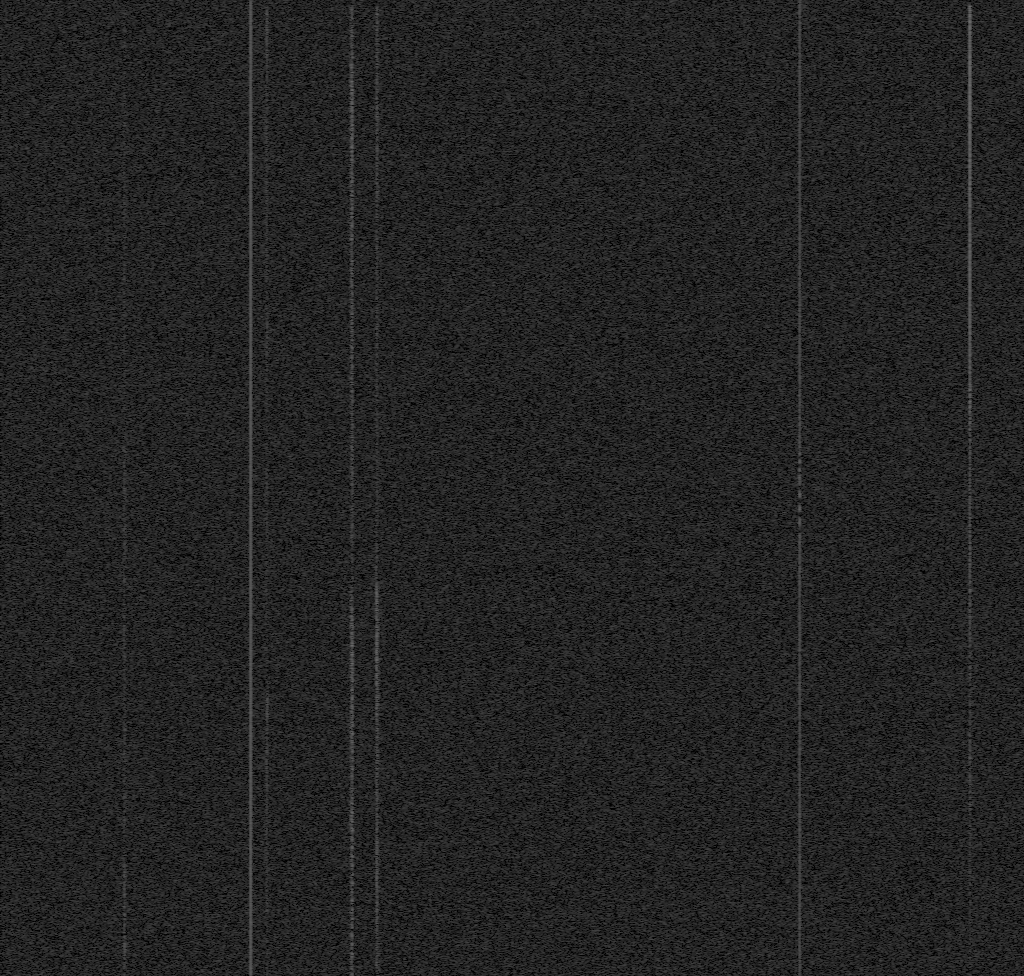wv_am: (794, 0, 806, 466), (797, 500, 802, 976), (797, 467, 802, 499)
wv_cw: (241, 0, 260, 976)
wv_lsb: (348, 4, 355, 976), (263, 5, 270, 264), (263, 647, 270, 869), (263, 276, 270, 367), (264, 464, 269, 557), (264, 558, 269, 646), (264, 870, 269, 918), (264, 368, 269, 406), (264, 940, 269, 976), (264, 418, 269, 434), (264, 919, 269, 934), (264, 442, 269, 456), (263, 265, 269, 275), (264, 457, 269, 463), (264, 407, 269, 412), (265, 435, 269, 441), (264, 935, 269, 939), (264, 413, 269, 417)
wv_usb: (967, 2, 974, 888), (122, 13, 128, 622), (374, 515, 381, 976), (374, 6, 381, 421), (122, 765, 128, 976), (122, 623, 128, 748), (374, 422, 380, 514), (968, 889, 972, 942), (968, 943, 972, 976), (122, 749, 128, 764), (122, 6, 128, 12)
